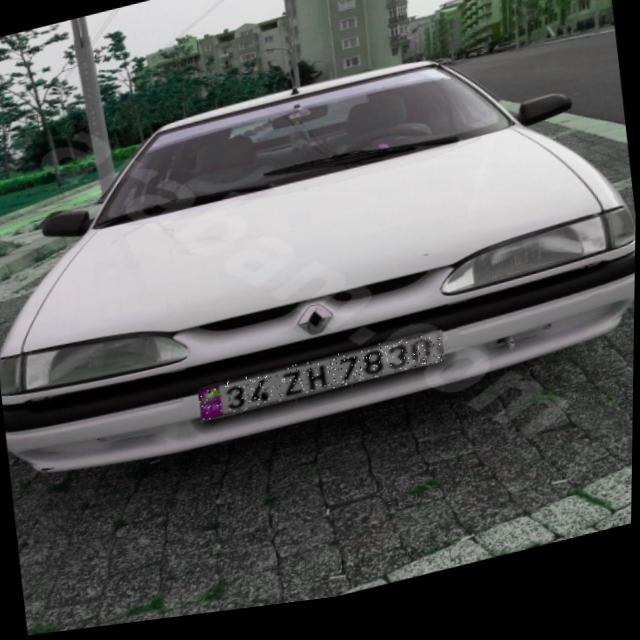license_plate: (199, 339, 446, 427)
